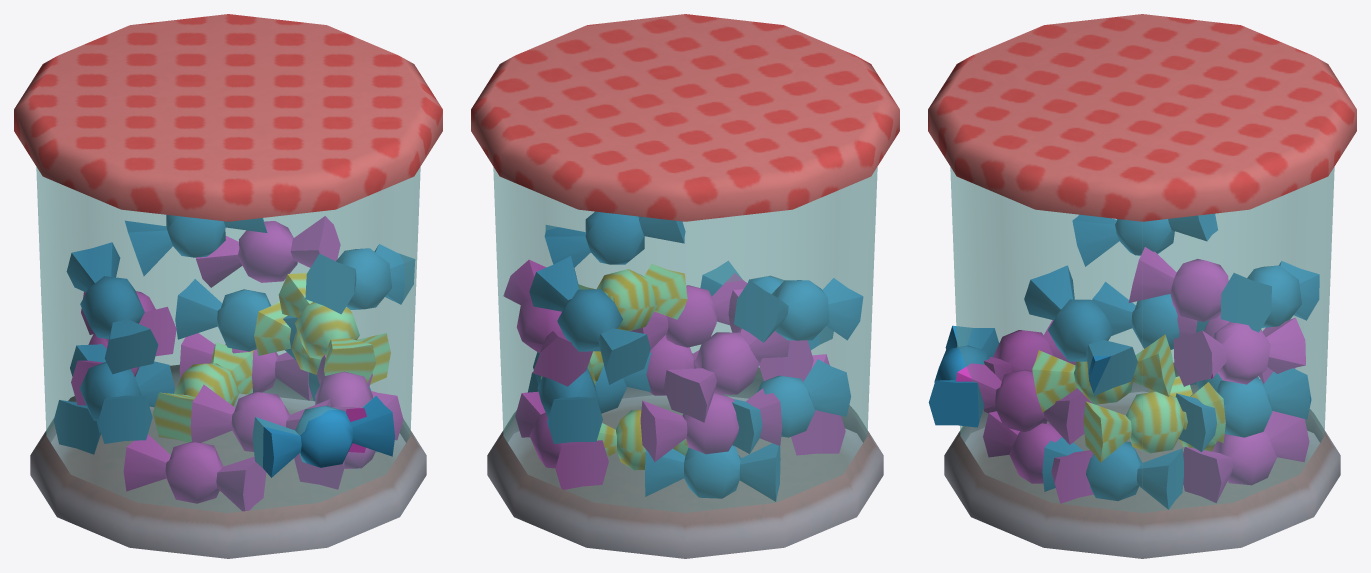
The model's file is Sweet_Jar2.fbx.
The picture shows the model from 3 angles, left to right: view 1: azimuth 30°, elevation 25°; view 2: azimuth 150°, elevation 25°; view 3: azimuth 270°, elevation 25°; orthographic projection.
Parts seen in each view (by area): view 1: mason_jar_low2; view 2: mason_jar_low2; view 3: mason_jar_low2.
Part boxes in pixels (box(x1,y1,x2,y2)): mason_jar_low2: box(14, 14, 442, 558); mason_jar_low2: box(471, 14, 899, 558); mason_jar_low2: box(928, 14, 1356, 558).
Size of the model in its own units: 13.81 by 13.53 by 13.81.
